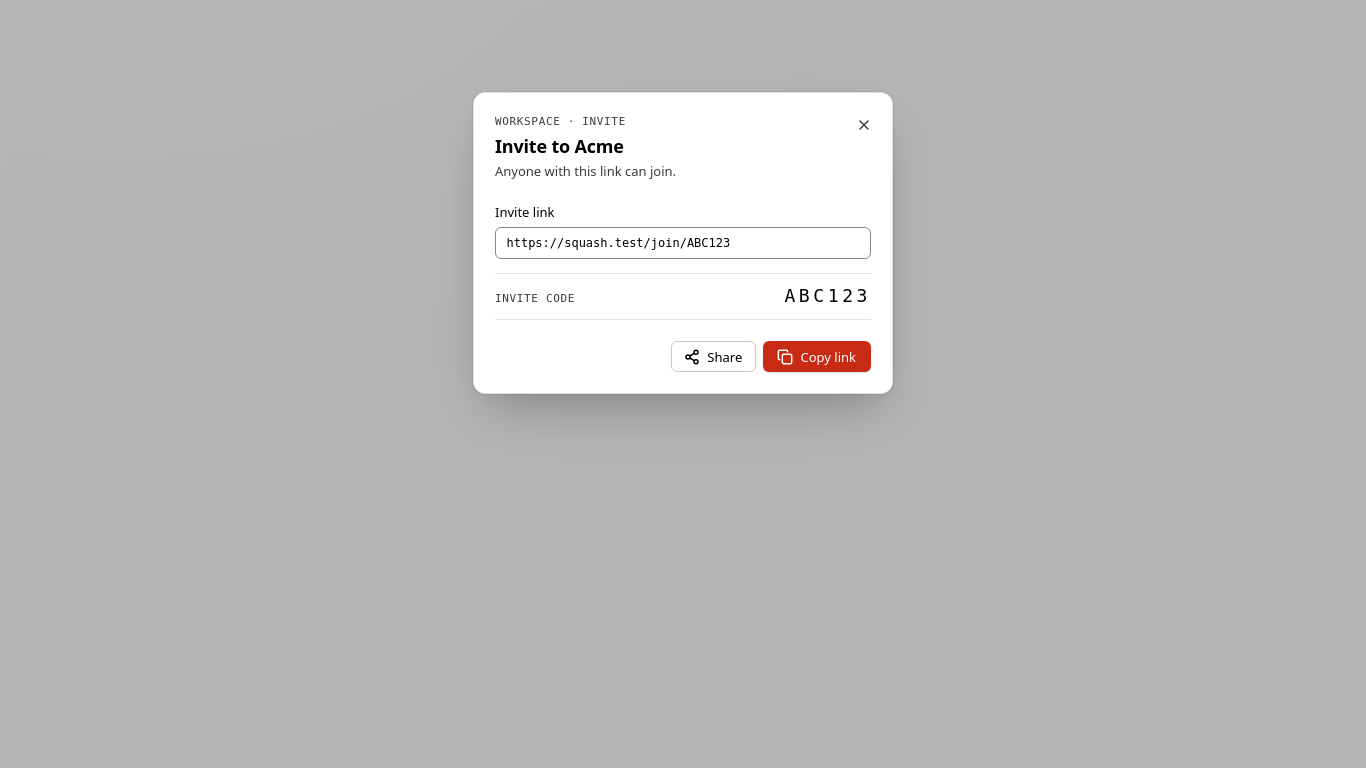
it: InviteDialog › reports non-abort share failures
Click the button "Share" at (713, 357), box [671,341,756,372]
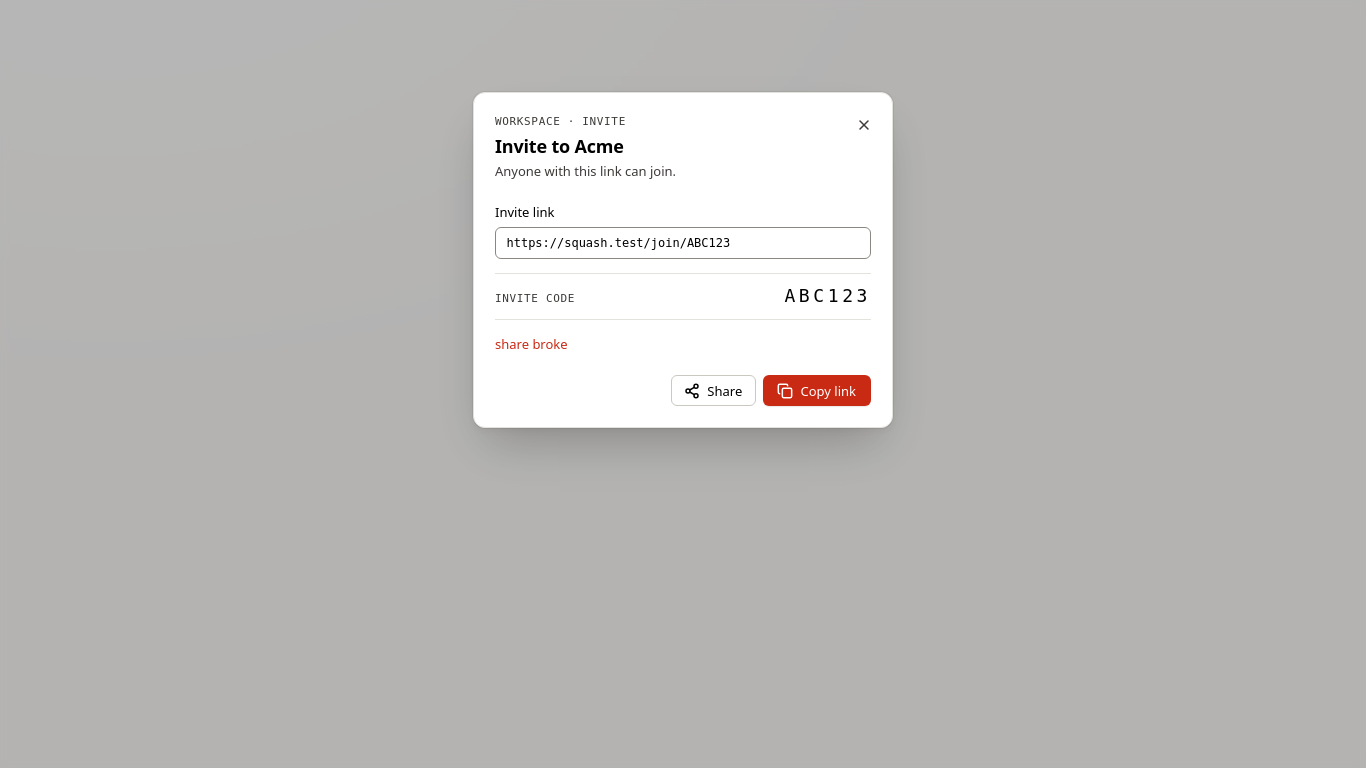
Expected: the message reads "share broke", [495,335,568,353]
